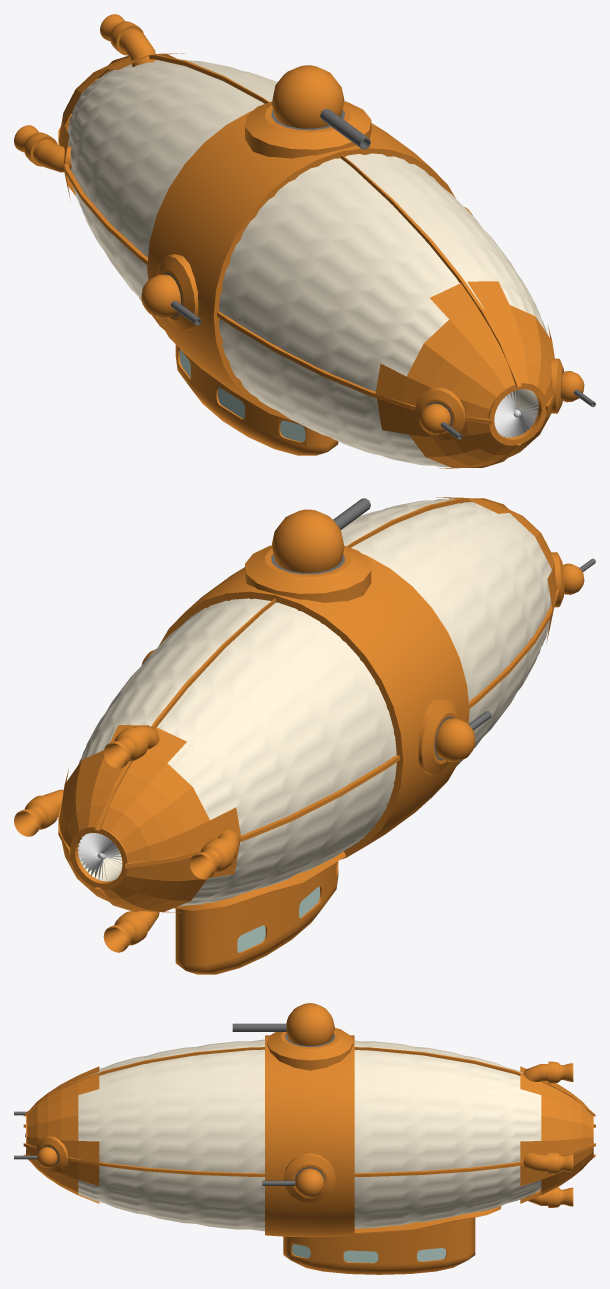
File: Luftschiff_v1.fbx
3 renders of one model, top to bottom at view 1: azimuth 30°, elevation 25°; view 2: azimuth 150°, elevation 25°; view 3: azimuth 270°, elevation 25°, orthographic. The views are drawn at different scales.
Visible parts, largest first — view 1: Sphere.015, Sphere.022, Sphere.018, Cylinder.006, Sphere.020, Sphere.019; view 2: Sphere.015, Sphere.022, Sphere.018, Cylinder.005, Sphere.020; view 3: Sphere.015, Sphere.022, Sphere.017, Sphere.019.
Boxes of the visible parts, x1=… form: Sphere.015: x1=14, y1=14, x2=563, y2=468; Sphere.022: x1=272, y1=65, x2=370, y2=149; Sphere.018: x1=141, y1=274, x2=201, y2=325; Cylinder.006: x1=494, y1=390, x2=538, y2=437; Sphere.020: x1=420, y1=403, x2=462, y2=439; Sphere.019: x1=561, y1=371, x2=595, y2=407; Sphere.015: x1=14, y1=497, x2=564, y2=974; Sphere.022: x1=272, y1=498, x2=370, y2=572; Sphere.018: x1=435, y1=711, x2=491, y2=762; Cylinder.005: x1=77, y1=833, x2=122, y2=880; Sphere.020: x1=563, y1=558, x2=595, y2=594; Sphere.015: x1=23, y1=1028, x2=595, y2=1274; Sphere.022: x1=232, y1=1003, x2=334, y2=1045; Sphere.017: x1=262, y1=1168, x2=324, y2=1198; Sphere.019: x1=14, y1=1146, x2=57, y2=1167.
Bounding box in the file's own units: 2.67 × 2.97 × 6.06.
